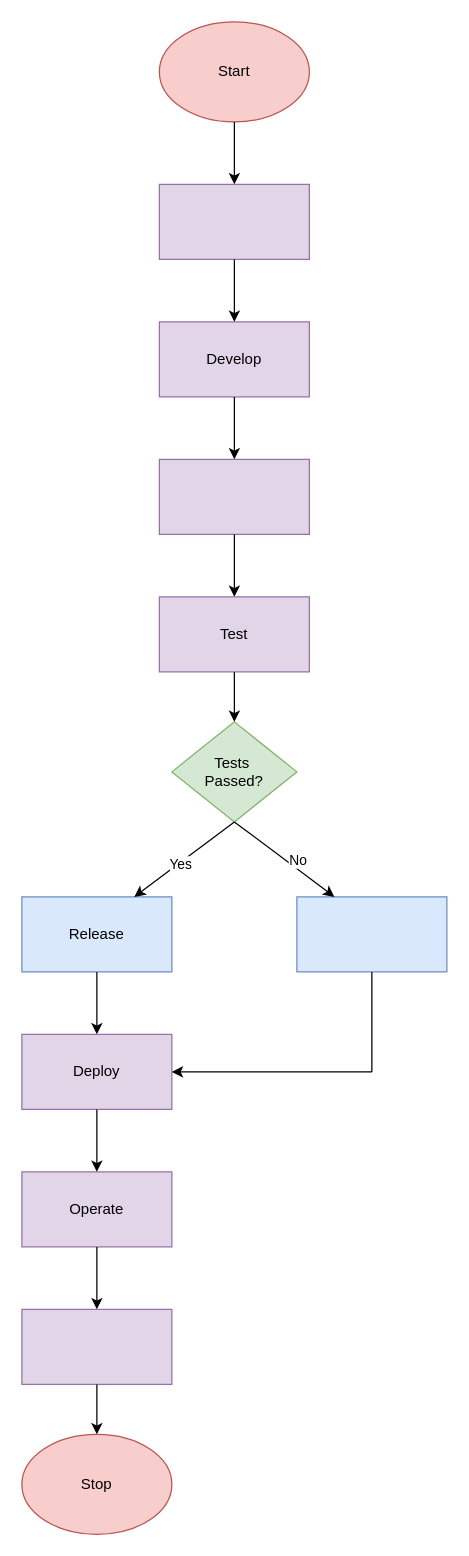
This 469x1556 diagram has some shape labels left out. Here are the shapes that lost their labels. From the top down, the centre of each, then its label:
pixel 233 221: Plan
pixel 233 496: Build
pixel 371 934: Fix & Commit
pixel 96 1346: Monitor
